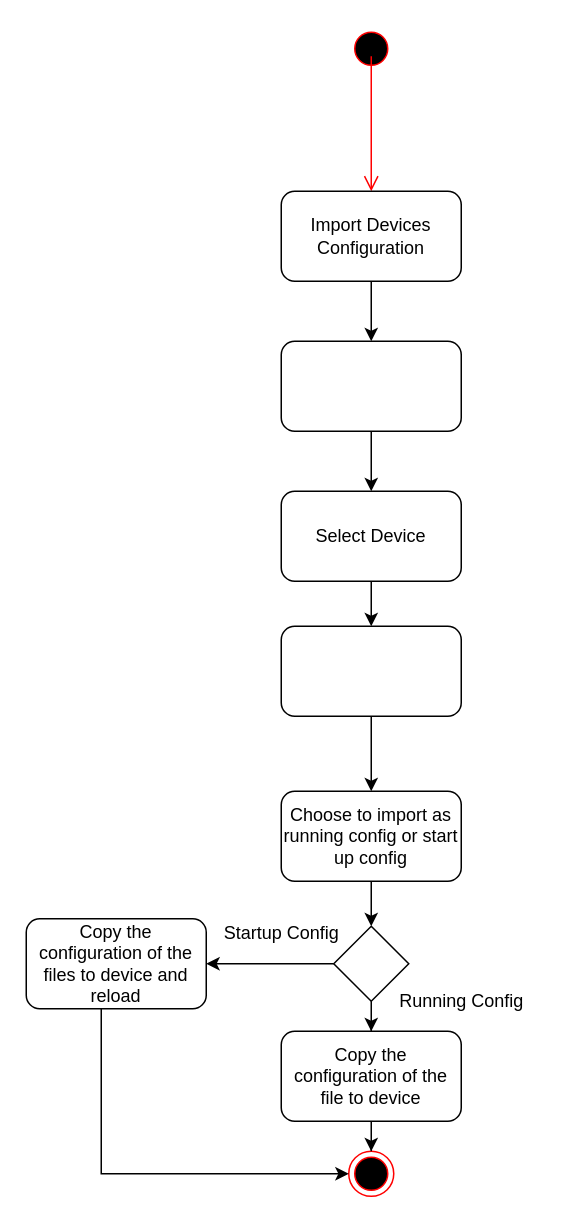
Image size: 563x1223. Some labels were removed from this diagram. Here are the shapes that lost their labels. From the top down, the centre of each, then its label:
pixel 370 385: List Devices
pixel 370 670: Read Hostname And Locate file
